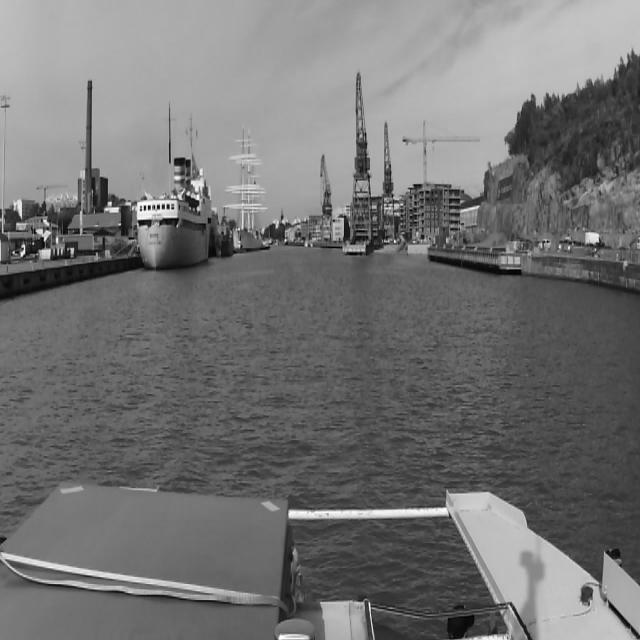ship: (137, 158, 210, 270), (234, 132, 268, 248), (210, 209, 234, 255), (304, 219, 313, 248)
